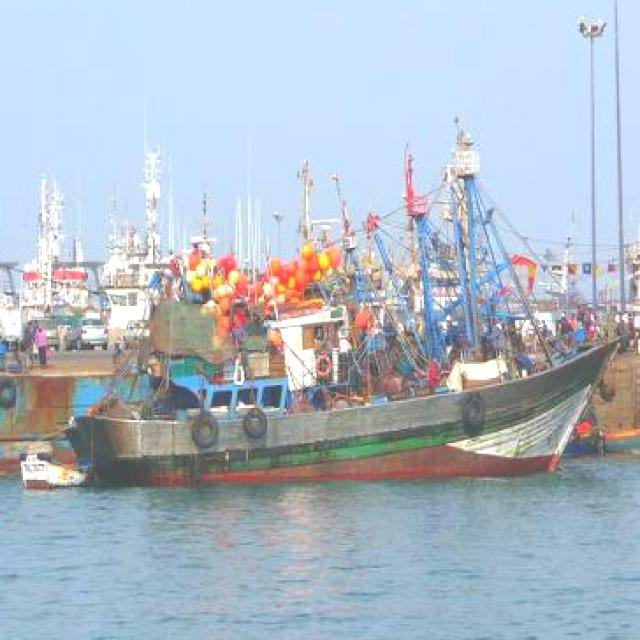ship: (17, 161, 611, 490)
